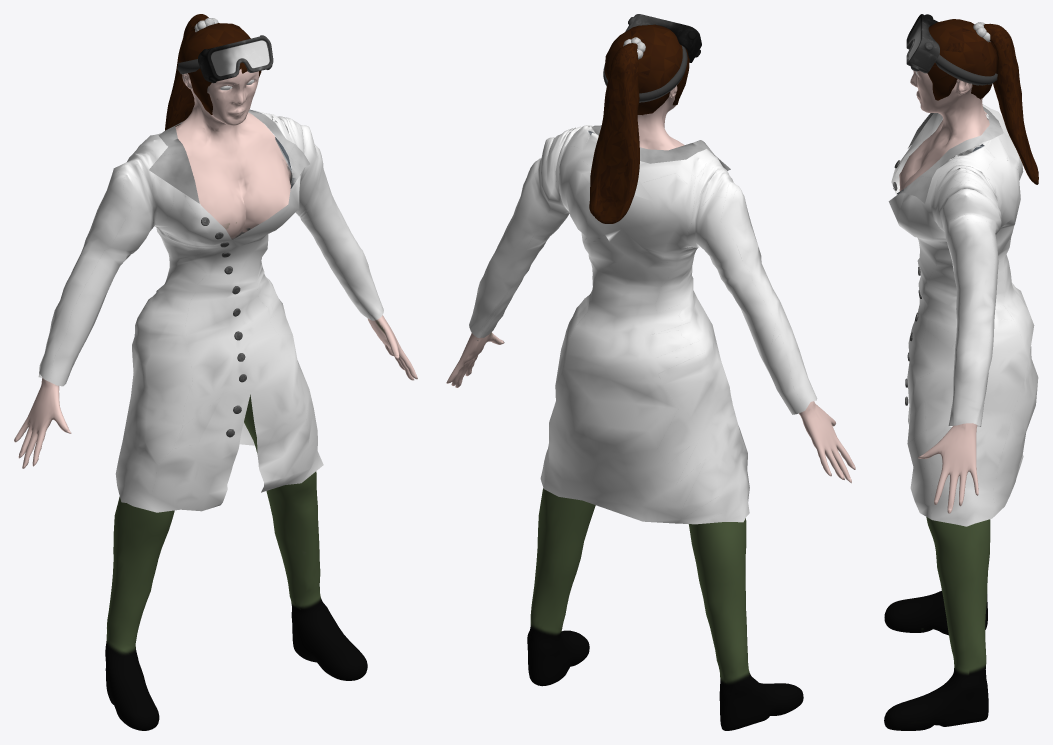
The model's file is profJoJo.dae.
The picture shows the model from 3 angles, left to right: view 1: azimuth 30°, elevation 25°; view 2: azimuth 150°, elevation 25°; view 3: azimuth 270°, elevation 25°; orthographic projection. The views are drawn at different scales.
Visible parts, largest first — view 1: Null, LowerBody_1, UpperBody, Torus_1, Sphere_003, Capsule, Capsule_001; view 2: Null, LowerBody_1, Capsule, UpperBody, Sphere_003, Torus_1; view 3: Null, LowerBody_1, UpperBody, Sphere_003, Capsule, Torus_1.
Boxes of the visible parts, x1=… form: Null: x1=38, y1=109, x2=383, y2=512; LowerBody_1: x1=105, y1=394, x2=367, y2=730; UpperBody: x1=14, y1=69, x2=417, y2=468; Torus_1: x1=177, y1=35, x2=273, y2=83; Sphere_003: x1=179, y1=23, x2=261, y2=114; Capsule: x1=165, y1=14, x2=208, y2=130; Capsule_001: x1=201, y1=217, x2=246, y2=437; Null: x1=469, y1=125, x2=817, y2=524; LowerBody_1: x1=527, y1=488, x2=803, y2=730; Capsule: x1=589, y1=43, x2=639, y2=223; UpperBody: x1=446, y1=85, x2=855, y2=483; Sphere_003: x1=604, y1=24, x2=689, y2=115; Torus_1: x1=603, y1=14, x2=701, y2=102; Null: x1=888, y1=104, x2=1038, y2=526; LowerBody_1: x1=884, y1=517, x2=990, y2=730; UpperBody: x1=899, y1=70, x2=989, y2=513; Sphere_003: x1=927, y1=19, x2=996, y2=100; Capsule: x1=983, y1=23, x2=1038, y2=184; Torus_1: x1=906, y1=14, x2=997, y2=85.
Bounding box in the file's own units: 1.07 × 1.72 × 0.3685.
Materials: 8 (8 with a texture image).
